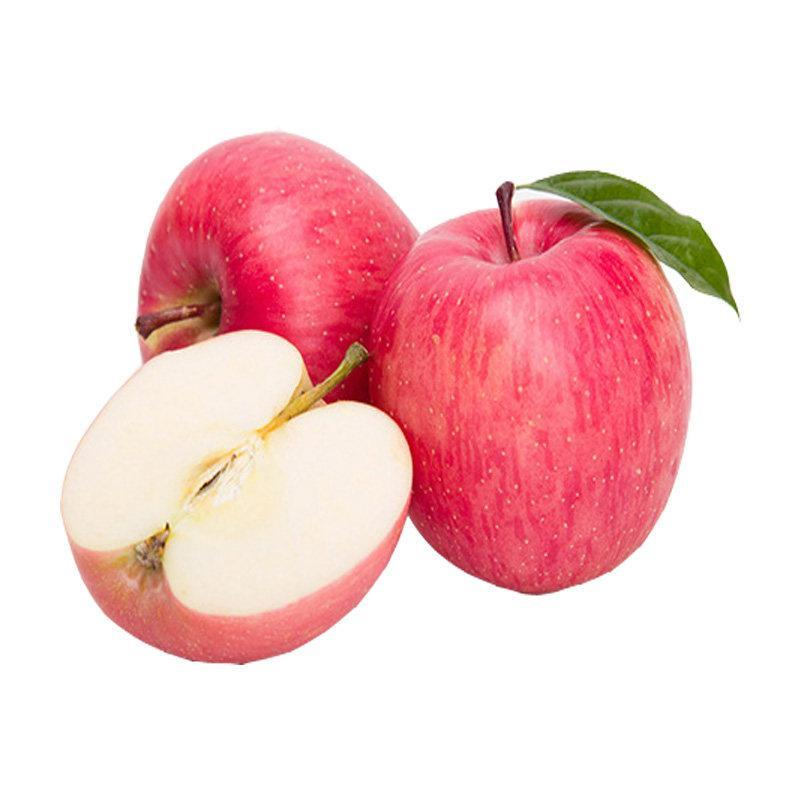apple: (373, 187, 702, 608), (130, 129, 413, 413)
